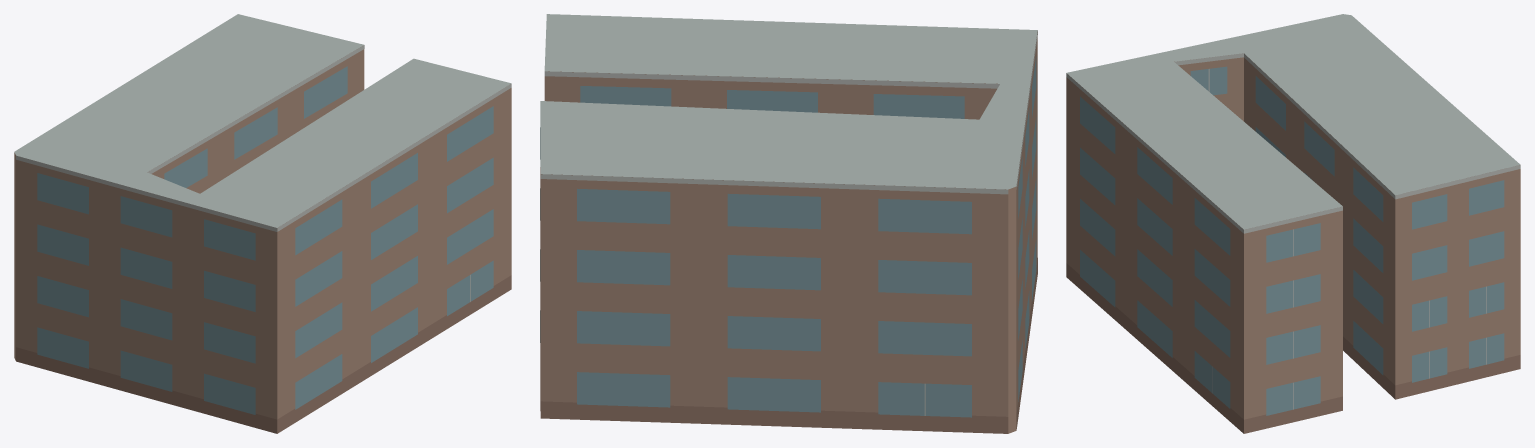
Rendered from survey-upis-32863817.glb.
3 renders of one model, left to right at view 1: azimuth 30°, elevation 25°; view 2: azimuth 150°, elevation 25°; view 3: azimuth 270°, elevation 25°, orthographic. The views are drawn at different scales.
Visible parts, largest first — view 1: survey-upis-32863817.tmp; view 2: survey-upis-32863817.tmp; view 3: survey-upis-32863817.tmp.
Boxes of the visible parts, left/top/right/bottom form: survey-upis-32863817.tmp: left=14, top=14, right=511, bottom=433; survey-upis-32863817.tmp: left=540, top=14, right=1037, bottom=433; survey-upis-32863817.tmp: left=1066, top=14, right=1520, bottom=433.
Size of the model in its own units: 27.64 by 12.2 by 24.61.
